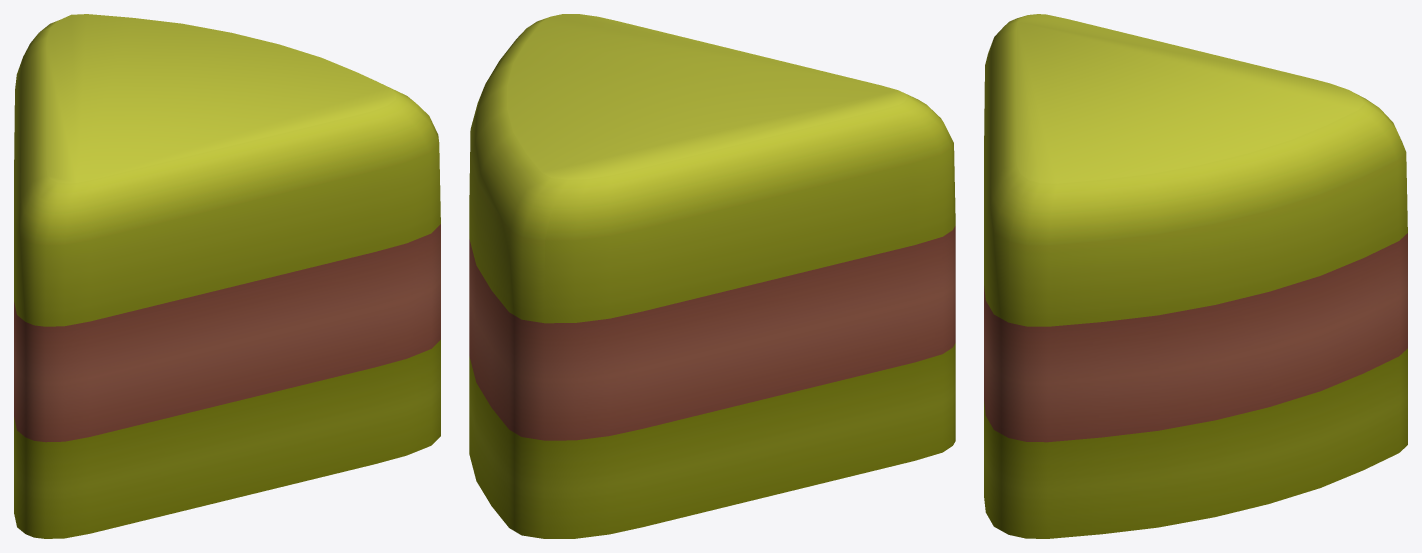
Rendered from cake01_slice.FBX.
3 renders of one model, left to right at view 1: azimuth 30°, elevation 25°; view 2: azimuth 150°, elevation 25°; view 3: azimuth 270°, elevation 25°, orthographic.
Visible parts, largest first — view 1: cake01_slice; view 2: cake01_slice; view 3: cake01_slice.
Boxes of the visible parts, box(x1,y1,x2,y2) form: cake01_slice: box(14, 14, 440, 538); cake01_slice: box(469, 14, 955, 538); cake01_slice: box(984, 14, 1407, 538).
Size of the model in its own units: 0.00902 by 0.00692 by 0.00787.
